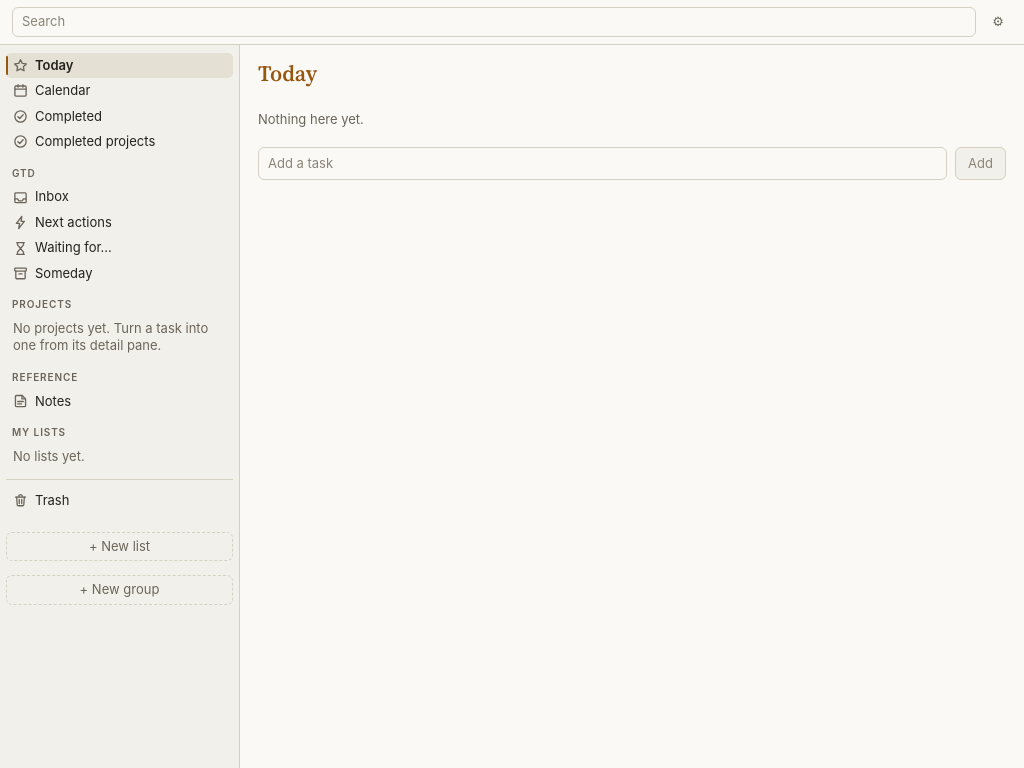
importing a task list, rendered › offers the import button on an empty Inbox
The width and height of the screenshot is (1024, 768).
Click the button "Inbox" at (120, 197), box [6,184,233,210]
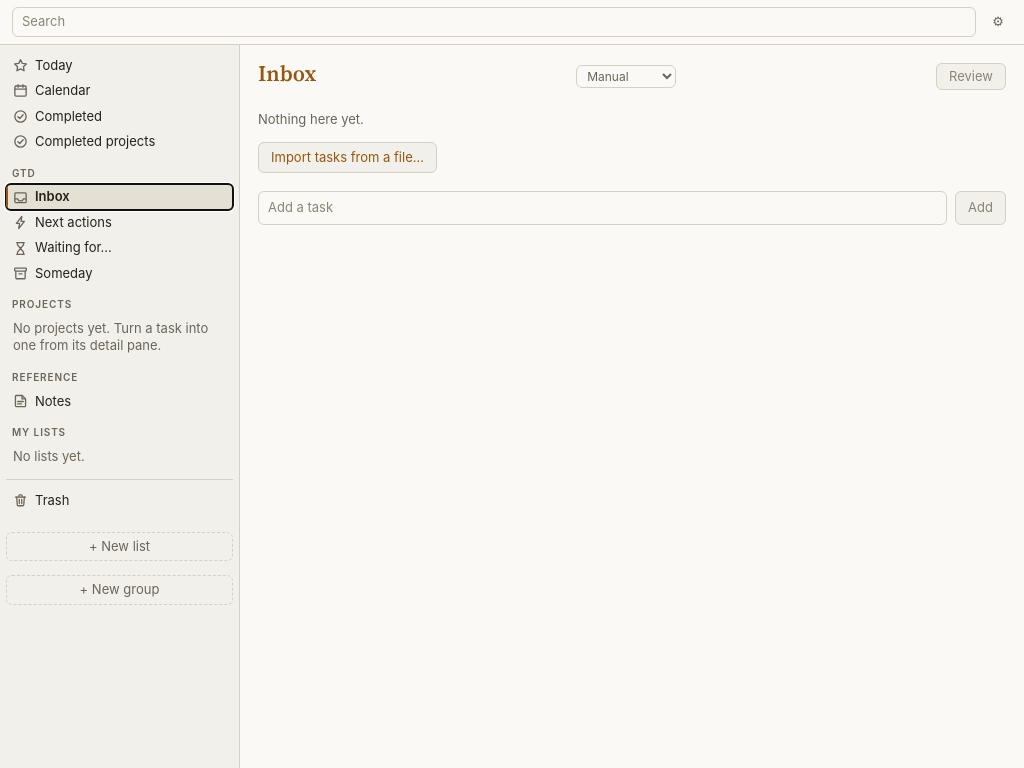
Check: the file field "Import tasks from a file…" is shown, box [258,142,437,173]
